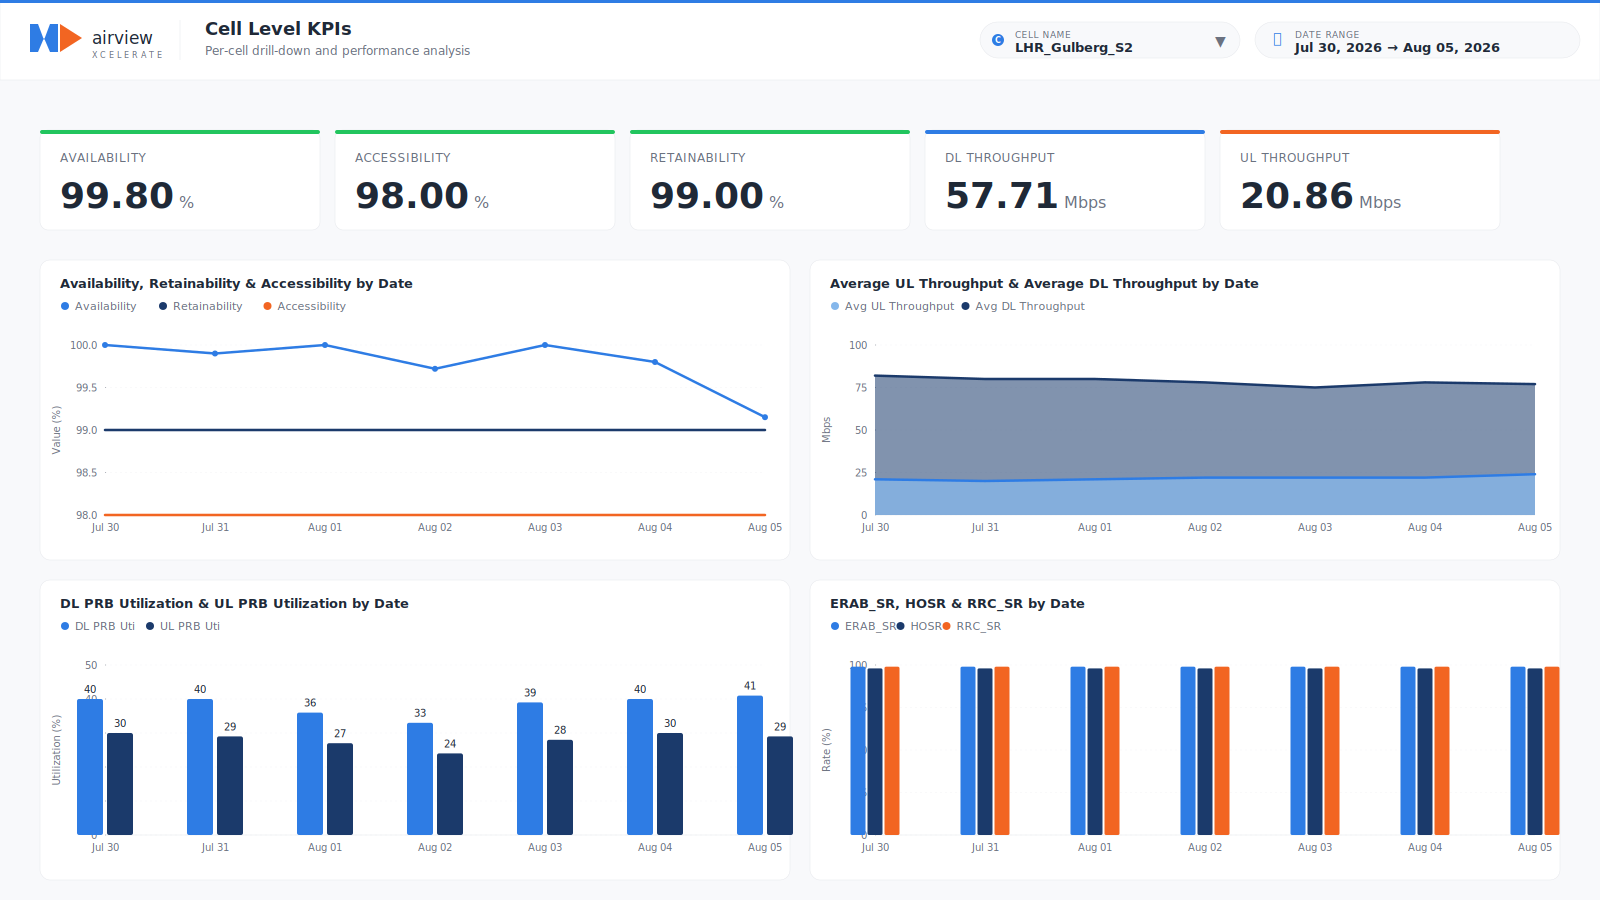

Layout of this report page (visuals, bound fields, positions):
{"tool":"powerbi","page":{"name":"Cell Daily Level KPIs","canvas":[1280,720],"ordinal":2},"visuals":[{"type":"slicer","fields":{"Values":["RF Cell_Daily_KPI.CellName"]},"box":[0,0,177,59],"z":0},{"type":"slicer","fields":{"Values":["RF Market_Daily_KPI.Date"]},"box":[177,0,227.8,59],"z":1000},{"type":"lineChart","fields":{"Category":["RF Cell_Daily_KPI.Date"],"Y":["Sum(RF Cell_Daily_KPI.Availability)","Sum(RF Cell_Daily_KPI.Retainability)","Sum(RF Cell_Daily_KPI.Accessibility)"]},"box":[0,188,639.5,278.6],"z":2000},{"type":"stackedAreaChart","fields":{"Category":["RF Cell_Daily_KPI.Date"],"Y":["Avg(RF Cell_Daily_KPI.UL Throughput)","Avg(RF Cell_Daily_KPI.DL Throughput)"]},"box":[639.5,188,640.8,278.6],"z":3000},{"type":"cardVisual","fields":{"Data":["Avg(RF Cell_Daily_KPI.Availability)"]},"box":[0,59,219.6,129],"z":4000},{"type":"cardVisual","fields":{"Data":["Avg(RF Cell_Daily_KPI.Accessibility)"]},"box":[230.5,59,241.5,129],"z":5000},{"type":"cardVisual","fields":{"Data":["Avg(RF Cell_Daily_KPI.Retainability)"]},"box":[483,59,247,129],"z":6000},{"type":"cardVisual","fields":{"Data":["Avg(RF Cell_Daily_KPI.DL Throughput)"]},"box":[742.4,59,263.5,129],"z":7000},{"type":"cardVisual","fields":{"Data":["Avg(RF Cell_Daily_KPI.UL Throughput)"]},"box":[1015.4,59,236,129],"z":8000},{"type":"clusteredColumnChart","fields":{"Y":["Sum(RF Cell_Daily_KPI.DL PRB Uti)","Sum(RF Cell_Daily_KPI.UL PRB Uti)"],"Category":["RF Cell_Daily_KPI.Date"]},"box":[0,466.6,639.5,253.9],"z":9000},{"type":"clusteredColumnChart","fields":{"Y":["Sum(RF Cell_Daily_KPI.ERAB_SR)","Sum(RF Cell_Daily_KPI.HOSR)","Sum(RF Cell_Daily_KPI.RRC_SR)"],"Category":["RF Cell_Daily_KPI.Date"]},"box":[639,467,641,253],"z":10000}]}

Visuals, with their boxes in screenshot pixels (x1, y1, x2, y2), scaled from the page's 1280x720 canvas onto the 1600x900 screenshot:
slicer - RF Cell_Daily_KPI.CellName: l=0, t=0, r=221, b=74
slicer - RF Market_Daily_KPI.Date: l=221, t=0, r=506, b=74
lineChart - RF Cell_Daily_KPI.Date x Sum(RF Cell_Daily_KPI.Availability): l=0, t=235, r=799, b=583
stackedAreaChart - RF Cell_Daily_KPI.Date x Avg(RF Cell_Daily_KPI.UL Throughput): l=799, t=235, r=1599, b=583
cardVisual - Avg(RF Cell_Daily_KPI.Availability): l=0, t=74, r=274, b=235
cardVisual - Avg(RF Cell_Daily_KPI.Accessibility): l=288, t=74, r=590, b=235
cardVisual - Avg(RF Cell_Daily_KPI.Retainability): l=604, t=74, r=912, b=235
cardVisual - Avg(RF Cell_Daily_KPI.DL Throughput): l=928, t=74, r=1257, b=235
cardVisual - Avg(RF Cell_Daily_KPI.UL Throughput): l=1269, t=74, r=1564, b=235
clusteredColumnChart - Sum(RF Cell_Daily_KPI.DL PRB Uti) x Sum(RF Cell_Daily_KPI.UL PRB Uti): l=0, t=583, r=799, b=899
clusteredColumnChart - Sum(RF Cell_Daily_KPI.ERAB_SR) x Sum(RF Cell_Daily_KPI.HOSR): l=799, t=584, r=1599, b=899
